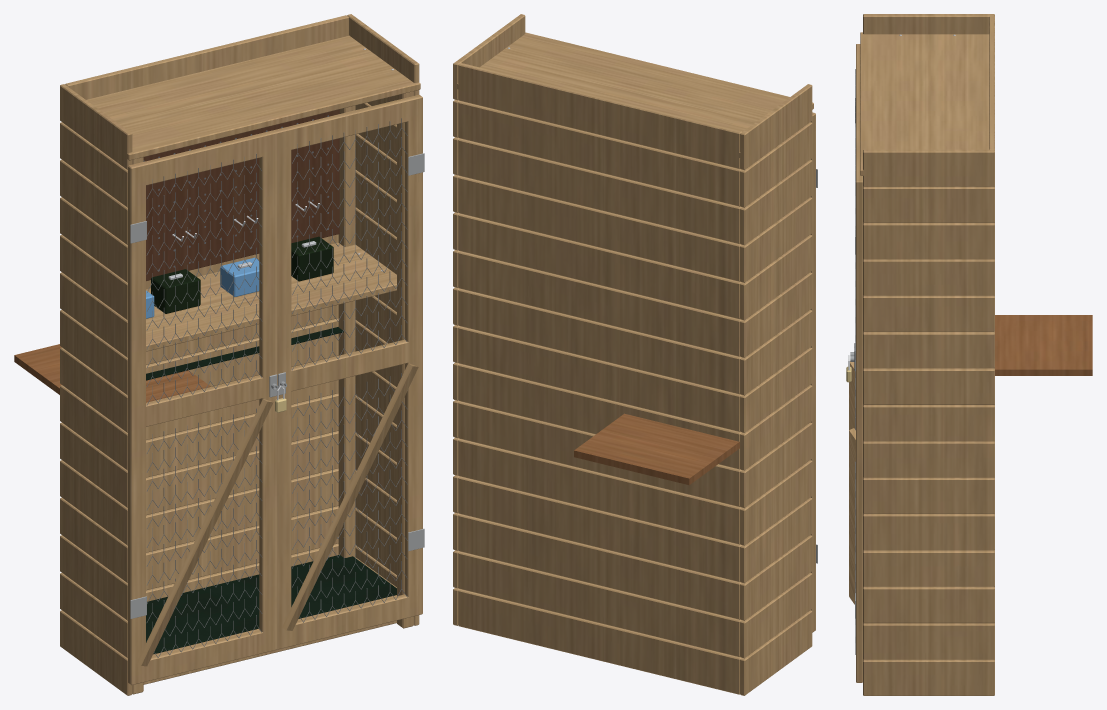
File: armario_armas_abrigo.glb
3 views of the same model, side by side, from view 1: azimuth 30°, elevation 25°; view 2: azimuth 150°, elevation 25°; view 3: azimuth 270°, elevation 25° (orthographic). The views are drawn at different scales.
Visible parts, largest first — view 1: armario_armas_abrigo_madeira_crua, armario_armas_abrigo_porta_esq_madeira_crua, armario_armas_abrigo_porta_dir_madeira_crua, armario_armas_abrigo_madeira_escura, armario_armas_abrigo_feltro, armario_armas_abrigo_porta_dir_tela_galinheiro, armario_armas_abrigo_porta_esq_tela_galinheiro, armario_armas_abrigo_verde_caixa, armario_armas_abrigo_madeira, armario_armas_abrigo_cartela, armario_armas_abrigo_porta_esq_galvanizado, armario_armas_abrigo_porta_dir_galvanizado; view 2: armario_armas_abrigo_madeira_crua, armario_armas_abrigo_madeira, armario_armas_abrigo_porta_esq_madeira_crua; view 3: armario_armas_abrigo_madeira_crua, armario_armas_abrigo_madeira, armario_armas_abrigo_porta_dir_madeira_crua, armario_armas_abrigo_porta_esq_madeira_crua, armario_armas_abrigo_porta_dir_tela_galinheiro.
Boxes of the visible parts, x1,y1,x2,y2 form: armario_armas_abrigo_madeira_crua: (60,14,420,695); armario_armas_abrigo_porta_esq_madeira_crua: (128,130,277,685); armario_armas_abrigo_porta_dir_madeira_crua: (274,94,422,649); armario_armas_abrigo_madeira_escura: (143,109,339,280); armario_armas_abrigo_feltro: (146,327,396,654); armario_armas_abrigo_porta_dir_tela_galinheiro: (292,118,407,622); armario_armas_abrigo_porta_esq_tela_galinheiro: (146,153,262,657); armario_armas_abrigo_verde_caixa: (151,236,333,313); armario_armas_abrigo_madeira: (14,344,210,402); armario_armas_abrigo_cartela: (146,257,259,318); armario_armas_abrigo_porta_esq_galvanizado: (130,221,278,618); armario_armas_abrigo_porta_dir_galvanizado: (278,153,424,551); armario_armas_abrigo_madeira_crua: (453,14,813,695); armario_armas_abrigo_madeira: (574,413,739,485); armario_armas_abrigo_porta_esq_madeira_crua: (810,112,815,632); armario_armas_abrigo_madeira_crua: (860,14,994,695); armario_armas_abrigo_madeira: (995,315,1092,375); armario_armas_abrigo_porta_dir_madeira_crua: (849,112,862,682); armario_armas_abrigo_porta_esq_madeira_crua: (849,44,860,429); armario_armas_abrigo_porta_dir_tela_galinheiro: (855,137,855,654).
Size of the model in its own units: 1.15 by 2.1 by 0.858.
Materials: 12 (5 with a texture image).
